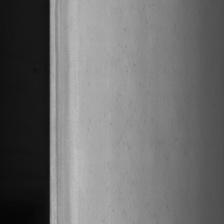silk_spot: (107, 13, 154, 163)
